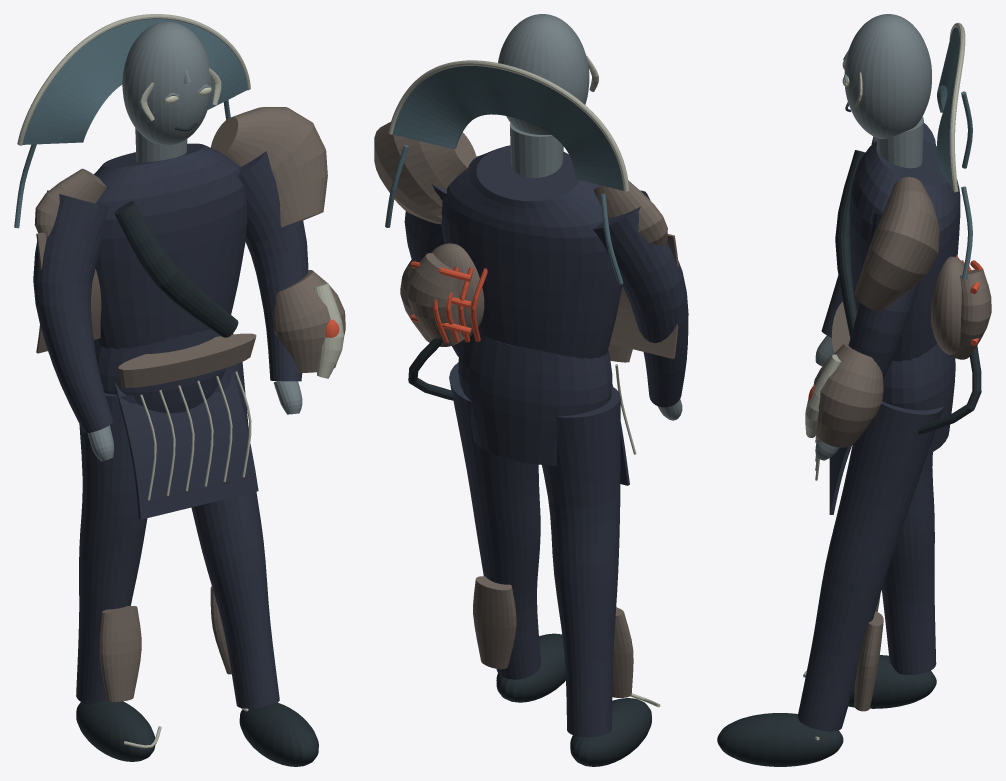
The model's file is PartedStriker.obj.
3 renders of one model, left to right at view 1: azimuth 30°, elevation 25°; view 2: azimuth 150°, elevation 25°; view 3: azimuth 270°, elevation 25°, orthographic. The views are drawn at different scales.
Visible parts, largest first — view 1: Avarin_Torso, Avarin_Leg_L, Avarin_Leg_R, Salvage_SplitFieldApron, Avarin_Arm_L, Avarin_LivingCrescentMantle, Avarin_TempleFace, Striker_OverbuiltRightShoulder, Avarin_Arm_R, Avarin_Pelvis, Salvage_ChestBraid, Striker_RightForearmPlate (+12 smaller); view 2: Avarin_Torso, Avarin_Leg_L, Avarin_Pelvis, Avarin_LivingCrescentMantle, Avarin_Leg_R, Avarin_Arm_L, Striker_OverbuiltRightShoulder, Avarin_TempleFace, Salvage_ShinShell_R, Avarin_Foot_L, Striker_AfterechoStabilizer, Avarin_Foot_R (+9 smaller); view 3: Avarin_Leg_R, Avarin_Torso, Avarin_TempleFace, Avarin_Leg_L, Striker_OverbuiltRightShoulder, Avarin_Foot_R, Striker_RightForearmPlate, Avarin_Pelvis, Avarin_Arm_R, Wake_EngineeredCaptureHousing, Avarin_Foot_L, Striker_AfterechoStabilizer (+11 smaller).
Boxes of the visible parts, left/top/right/bottom form: Avarin_Torso: left=93, top=143, right=247, bottom=349; Avarin_Leg_L: left=76, top=393, right=147, bottom=705; Avarin_Leg_R: left=191, top=362, right=279, bottom=708; Salvage_SplitFieldApron: left=114, top=372, right=258, bottom=519; Avarin_Arm_L: left=33, top=190, right=113, bottom=432; Avarin_LivingCrescentMantle: left=22, top=19, right=247, bottom=144; Avarin_TempleFace: left=122, top=21, right=212, bottom=145; Striker_OverbuiltRightShoulder: left=211, top=107, right=327, bottom=227; Avarin_Arm_R: left=238, top=151, right=308, bottom=381; Avarin_Pelvis: left=94, top=329, right=233, bottom=413; Salvage_ChestBraid: left=114, top=201, right=238, bottom=337; Striker_RightForearmPlate: left=273, top=270, right=345, bottom=372; Avarin_Torso: left=441, top=145, right=622, bottom=358; Avarin_Leg_L: left=542, top=387, right=620, bottom=737; Avarin_Pelvis: left=458, top=334, right=612, bottom=465; Avarin_LivingCrescentMantle: left=392, top=66, right=623, bottom=190; Avarin_Leg_R: left=449, top=362, right=540, bottom=679; Avarin_Arm_L: left=592, top=190, right=688, bottom=407; Striker_OverbuiltRightShoulder: left=374, top=122, right=476, bottom=224; Avarin_TempleFace: left=498, top=14, right=589, bottom=134; Salvage_ShinShell_R: left=473, top=576, right=516, bottom=668; Avarin_Foot_L: left=570, top=698, right=651, bottom=766; Striker_AfterechoStabilizer: left=406, top=253, right=463, bottom=346; Avarin_Foot_R: left=496, top=633, right=565, bottom=702; Avarin_Leg_R: left=797, top=401, right=943, bottom=731; Avarin_Torso: left=849, top=139, right=960, bottom=361; Avarin_TempleFace: left=844, top=14, right=931, bottom=138; Avarin_Leg_L: left=882, top=452, right=936, bottom=674; Striker_OverbuiltRightShoulder: left=854, top=177, right=939, bottom=311; Avarin_Foot_R: left=717, top=713, right=843, bottom=766; Striker_RightForearmPlate: left=813, top=343, right=883, bottom=447; Avarin_Pelvis: left=882, top=343, right=955, bottom=453; Avarin_Arm_R: left=848, top=213, right=920, bottom=379; Wake_EngineeredCaptureHousing: left=931, top=256, right=968, bottom=354; Avarin_Foot_L: left=848, top=655, right=936, bottom=708; Striker_AfterechoStabilizer: left=951, top=269, right=991, bottom=359.
Bounding box in the file's own units: 0.7858 × 1.82 × 0.6307.
